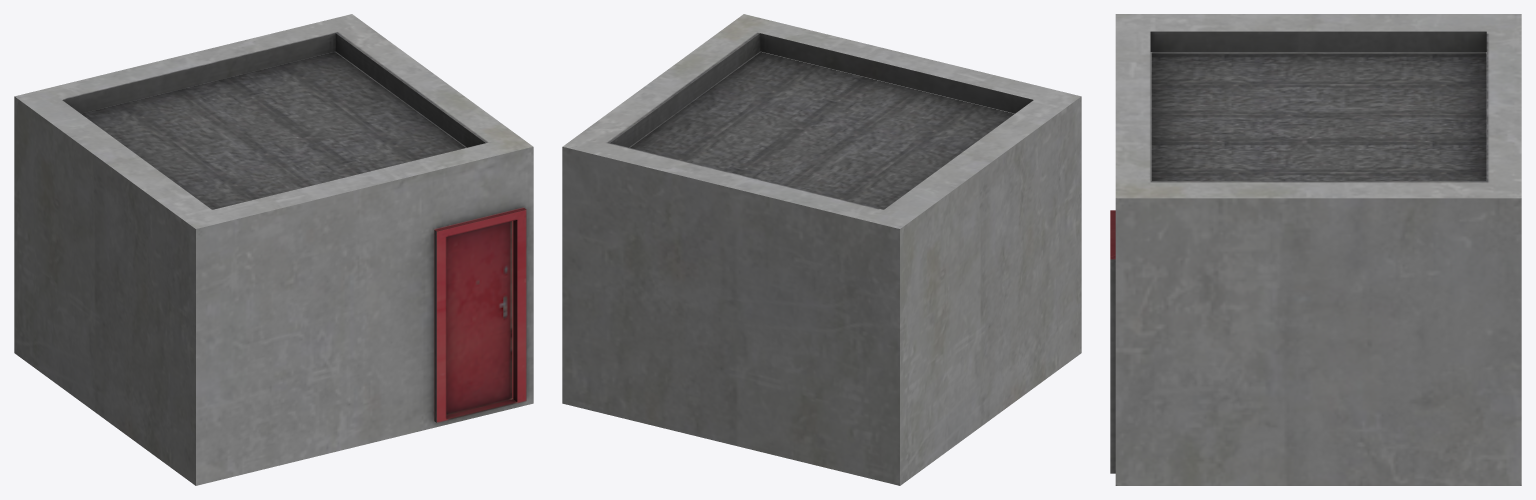
File: core.fbx
3 renders of one model, left to right at view 1: azimuth 30°, elevation 25°; view 2: azimuth 150°, elevation 25°; view 3: azimuth 270°, elevation 25°, orthographic. The views are drawn at different scales.
Visible parts, largest first — view 1: coreMesh; view 2: coreMesh; view 3: coreMesh.
Part boxes in pixels (<box>): coreMesh: <box>14,14,533,485</box>; coreMesh: <box>562,14,1081,485</box>; coreMesh: <box>1110,14,1521,485</box>.
Size of the model in its own units: 451 by 328 by 425.
